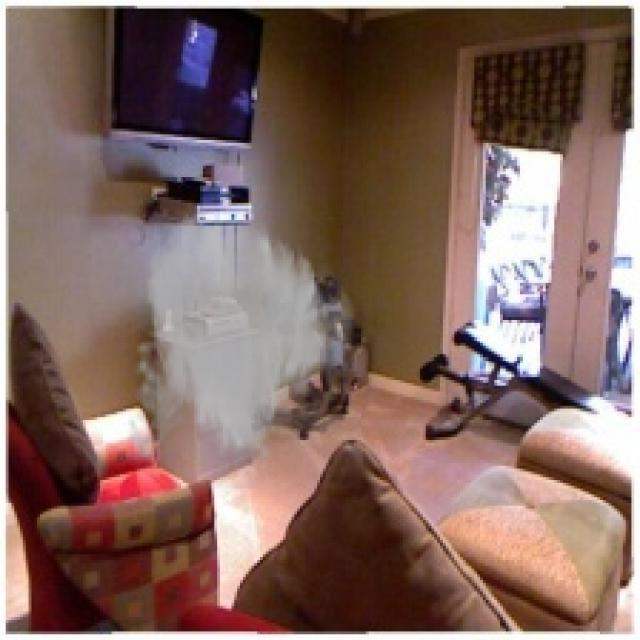Smoke: (120, 208, 363, 488)
